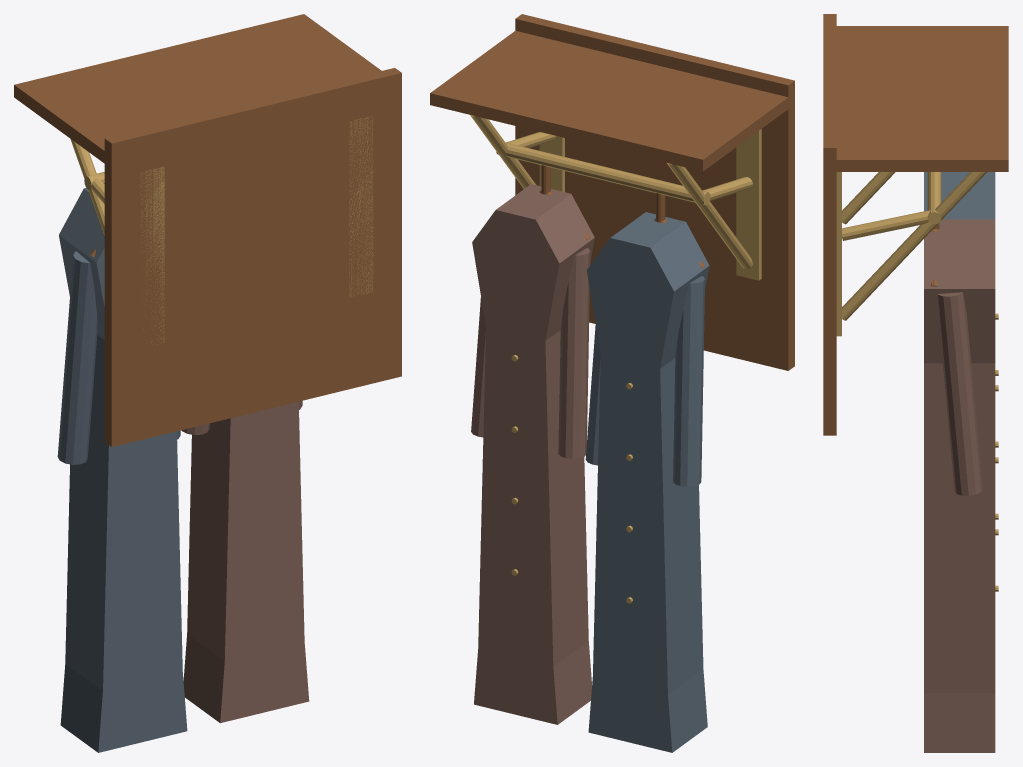
The model's file is parametric-compact-wall-rack-1st.glb.
3 views of the same model, side by side, from view 1: azimuth 30°, elevation 25°; view 2: azimuth 150°, elevation 25°; view 3: azimuth 270°, elevation 25° (orthographic). The views are drawn at different scales.
Parts seen in each view (by area): view 1: rack-backboard, coat:0, coat:1, hat-shelf, coat-sleeve:0:-1, bracket-plate:1, bracket-plate:-1, shelf-brace:-1; view 2: coat:0, coat:1, rack-backboard, hat-shelf, coat-sleeve:0:-1, coat-sleeve:1:-1, bracket-plate:-1, hanging-rail, shelf-brace:-1, coat-sleeve:0:1, coat-sleeve:1:1, shelf-brace:1 (+1 smaller); view 3: coat:1, hat-shelf, rack-backboard, coat-sleeve:1:1, shelf-brace:1, coat:0, rail-brace:1, bracket-plate:1, shelf-brace:-1, hanging-rail.
Boxes of the visible parts, x1,y1,x2,y2 form: rack-backboard: (104, 68, 401, 446); coat:0: (59, 188, 187, 752); coat:1: (183, 401, 309, 723); hat-shelf: (14, 14, 401, 168); coat-sleeve:0:-1: (57, 251, 97, 464); bracket-plate:1: (349, 116, 373, 297); bracket-plate:-1: (140, 166, 164, 344); shelf-brace:-1: (70, 139, 104, 235); coat:0: (586, 212, 709, 752); coat:1: (472, 184, 594, 724); rack-backboard: (515, 14, 794, 370); hat-shelf: (430, 30, 788, 171); coat-sleeve:0:-1: (673, 276, 704, 486); coat-sleeve:1:-1: (558, 248, 590, 458); bracket-plate:-1: (736, 129, 761, 280); hanging-rail: (496, 142, 710, 205); shelf-brace:-1: (667, 163, 752, 269); coat-sleeve:0:1: (585, 325, 600, 465); coat-sleeve:1:1: (471, 297, 485, 437); shelf-brace:1: (470, 115, 536, 188); coat:1: (924, 219, 995, 752); hat-shelf: (823, 26, 1008, 171); rack-backboard: (823, 14, 836, 435); coat-sleeve:1:1: (937, 292, 982, 495); shelf-brace:1: (842, 172, 986, 320); coat:0: (924, 172, 995, 219); rail-brace:1: (842, 210, 930, 240); bracket-plate:1: (836, 172, 841, 336); shelf-brace:-1: (842, 172, 895, 224); hanging-rail: (927, 172, 941, 224).
Bounding box in the file's own units: 0.6 × 1.3 × 0.35.
